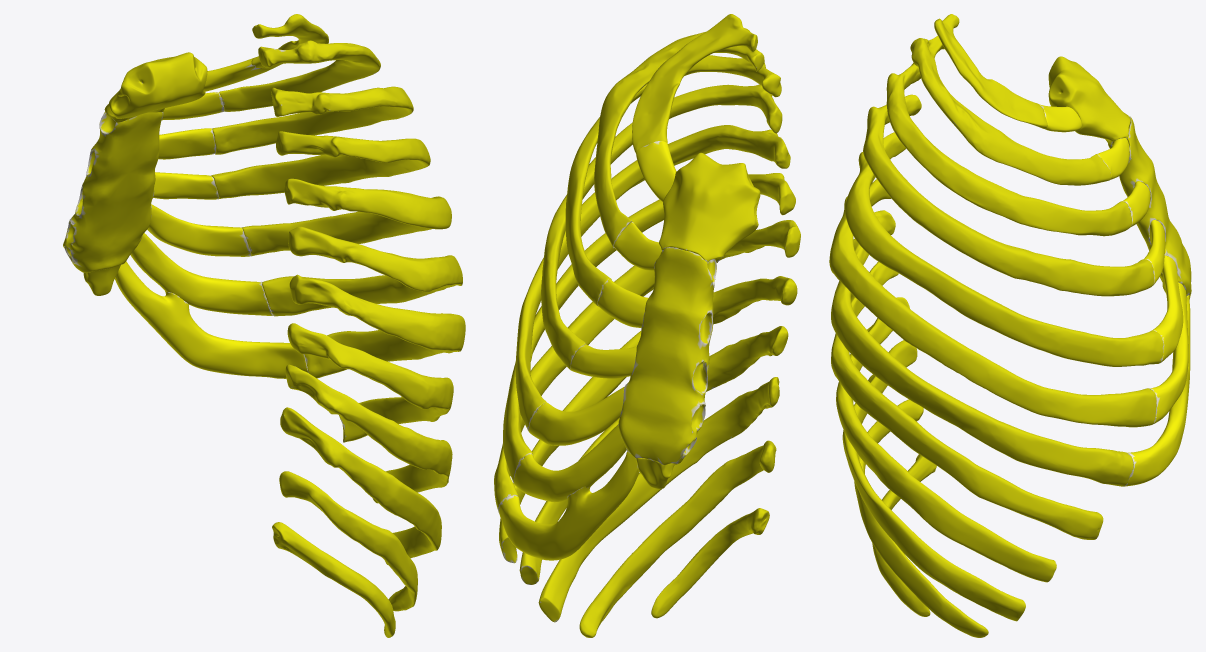
The model's file is rib_cage_R.glb.
The picture shows the model from 3 angles, left to right: view 1: azimuth 30°, elevation 25°; view 2: azimuth 150°, elevation 25°; view 3: azimuth 270°, elevation 25°; orthographic projection. The views are drawn at different scales.
Visible parts, largest first — view 1: sternum_body, rib_R05, rib_R04, rib_R06, rib_R07, costal_cartilage_R07, rib_R03, rib_R08, rib_R10, rib_R09, rib_R02, costal_cartilage_R06 (+10 smaller); view 2: sternum_body, sternum_manubrium, rib_R05, rib_R10, rib_R11, rib_R04, costal_cartilage_R07, rib_R07, rib_R02, rib_R01, rib_R06, rib_R03 (+10 smaller); view 3: rib_R06, rib_R05, rib_R07, rib_R04, rib_R08, rib_R03, rib_R09, rib_R02, rib_R10, rib_R11, sternum_manubrium, sternum_body (+9 smaller).
Part boxes in pixels (<box>): sternum_body: <box>63,111,163,272</box>; rib_R05: <box>241,178,451,256</box>; rib_R04: <box>211,131,430,199</box>; rib_R06: <box>262,226,462,316</box>; rib_R07: <box>289,274,465,378</box>; costal_cartilage_R07: <box>114,261,308,378</box>; rib_R03: <box>212,86,413,154</box>; rib_R08: <box>287,323,453,442</box>; rib_R10: <box>280,407,441,564</box>; rib_R09: <box>285,364,452,503</box>; rib_R02: <box>219,40,380,111</box>; costal_cartilage_R06: <box>130,233,273,315</box>; sternum_body: <box>618,247,716,465</box>; sternum_manubrium: <box>659,152,760,262</box>; rib_R05: <box>515,125,790,430</box>; rib_R10: <box>538,377,779,622</box>; rib_R11: <box>579,440,776,637</box>; rib_R04: <box>541,84,782,369</box>; costal_cartilage_R07: <box>498,451,639,560</box>; rib_R07: <box>494,220,800,512</box>; rib_R02: <box>594,28,764,247</box>; rib_R01: <box>632,14,757,152</box>; rib_R06: <box>503,173,795,482</box>; rib_R03: <box>565,55,781,306</box>; rib_R06: <box>829,179,1156,427</box>; rib_R05: <box>845,132,1163,366</box>; rib_R07: <box>831,210,1133,486</box>; rib_R04: <box>863,94,1154,296</box>; rib_R08: <box>831,261,1103,539</box>; rib_R03: <box>886,63,1131,236</box>; rib_R09: <box>836,297,1056,582</box>; rib_R02: <box>910,36,1110,185</box>; rib_R10: <box>842,340,1025,621</box>; rib_R11: <box>854,399,988,637</box>; sternum_manubrium: <box>1048,56,1130,145</box>; sternum_body: <box>1108,116,1191,296</box>.
Size of the model in its own units: 0.1866 by 0.3623 by 0.2101.
